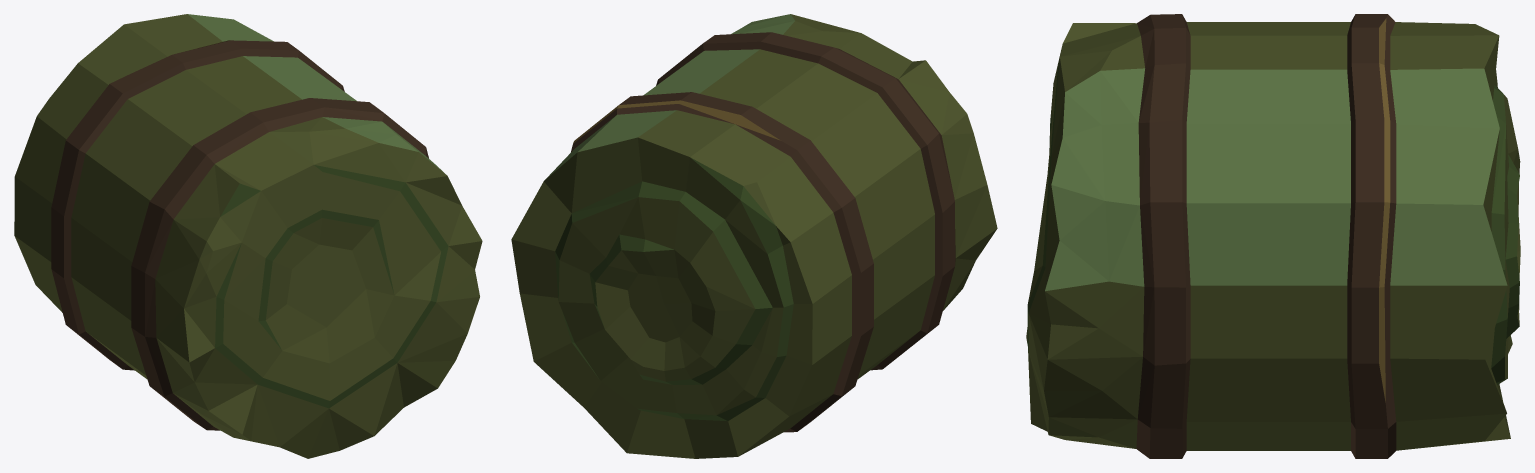
The model's file is EA_M_HayBale_Green_01a.fbx.
The picture shows the model from 3 angles, left to right: view 1: azimuth 30°, elevation 25°; view 2: azimuth 150°, elevation 25°; view 3: azimuth 270°, elevation 25°; orthographic projection. The views are drawn at different scales.
Visible parts, largest first — view 1: EA_M_HayBale_Green_01a_LOD0; view 2: EA_M_HayBale_Green_01a_LOD0; view 3: EA_M_HayBale_Green_01a_LOD0.
Boxes of the visible parts, box(x1,y1,x2,y2) form: EA_M_HayBale_Green_01a_LOD0: box(14, 14, 482, 458); EA_M_HayBale_Green_01a_LOD0: box(511, 14, 997, 458); EA_M_HayBale_Green_01a_LOD0: box(1026, 14, 1520, 458).
Size of what is drawn, in the model's own units: 0.8359 by 0.8359 by 0.9809.
